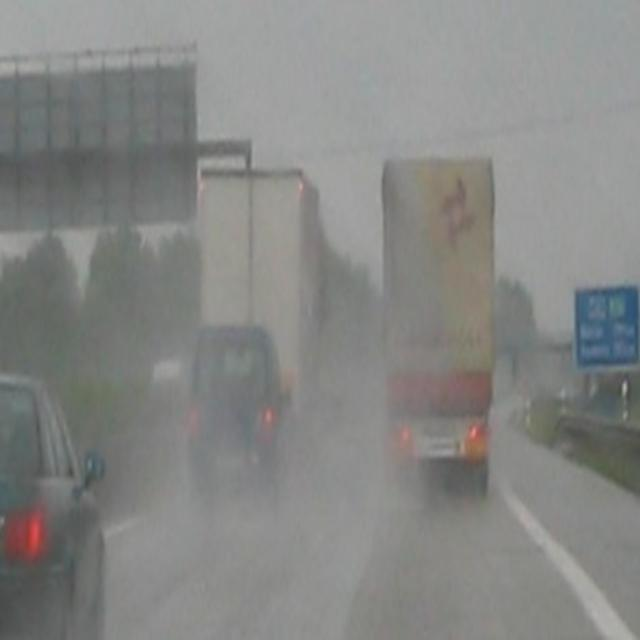bus: (379, 152, 493, 499), (198, 165, 328, 439)
car: (0, 371, 106, 637), (194, 329, 290, 497)
